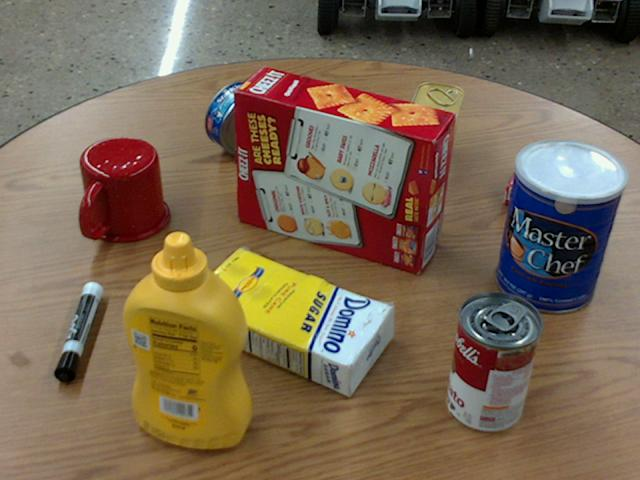cracker_box: (233, 68, 452, 273)
gelatin_box: (505, 149, 587, 219)
large_marker: (53, 281, 101, 379)
master_chef_can: (495, 139, 625, 313)
mug: (79, 137, 169, 242)
mustard_bottle: (120, 231, 248, 447)
potted_meat_can: (404, 82, 464, 184)
sugar_box: (184, 246, 394, 397)
tomato_soup_can: (446, 292, 542, 432)
tuna_fish_can: (204, 81, 275, 156)
